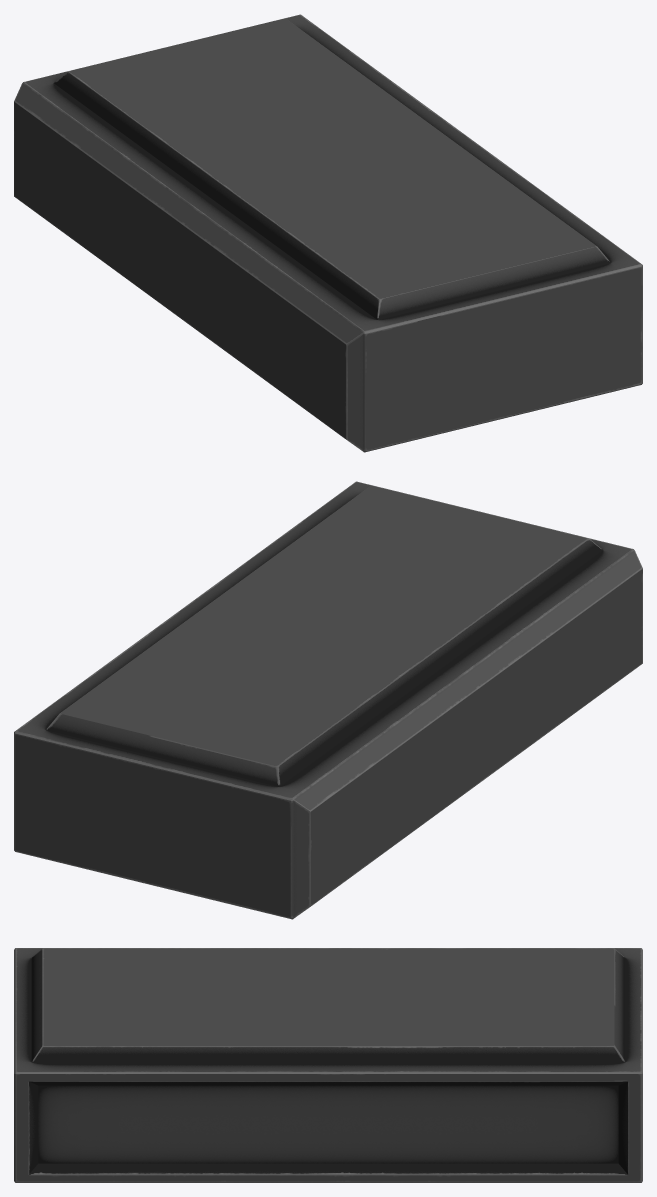
Rendered from bigbuilding.glb.
3 renders of one model, top to bottom at view 1: azimuth 30°, elevation 25°; view 2: azimuth 150°, elevation 25°; view 3: azimuth 270°, elevation 25°, orthographic. The views are drawn at different scales.
Visible parts, largest first — view 1: Cube.005; view 2: Cube.005; view 3: Cube.005.
Boxes of the visible parts, bbox=[...] form: Cube.005: bbox=[14, 14, 642, 452]; Cube.005: bbox=[14, 481, 642, 919]; Cube.005: bbox=[14, 948, 642, 1182].
Size of the model in its own units: 28.44 by 12.54 by 57.8.
Materials: 1 (1 with a texture image).
